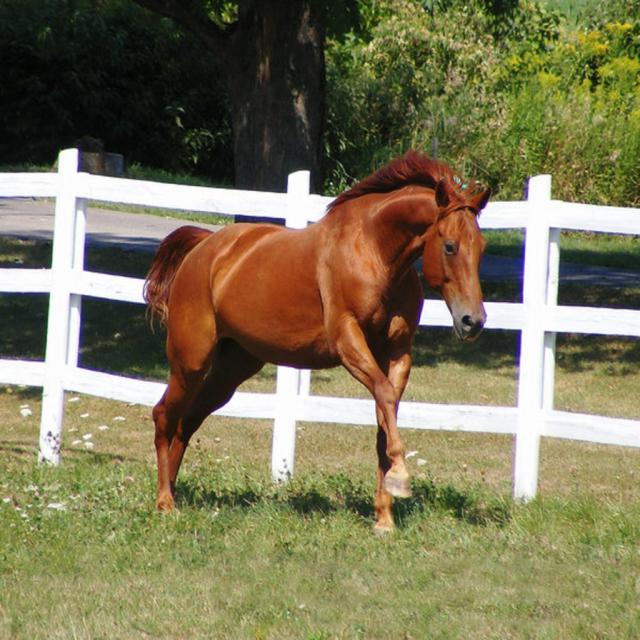Horse: (143, 149, 491, 536)
